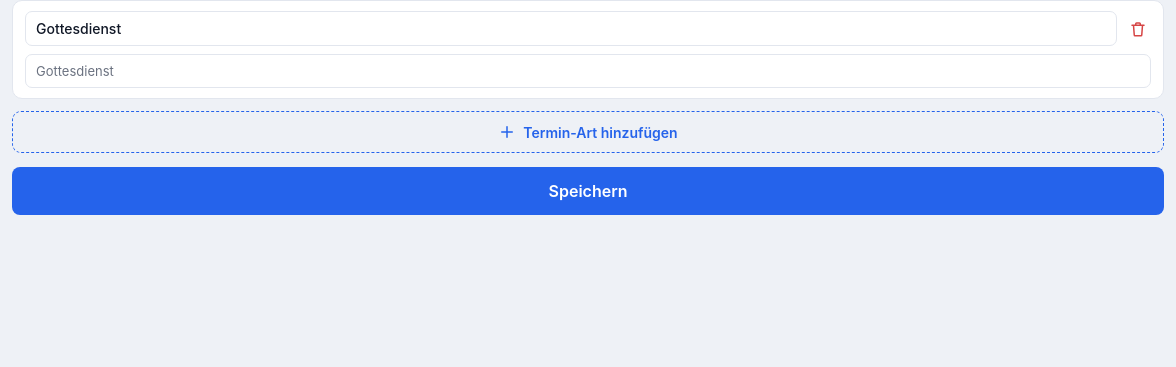
Test: TerminArtenManager › meldet eine halbe Zeile, statt sie still zu verwerfen
Click the button "Termin-Art hinzufügen" at coordinates (588, 132), box [12, 111, 1164, 153]
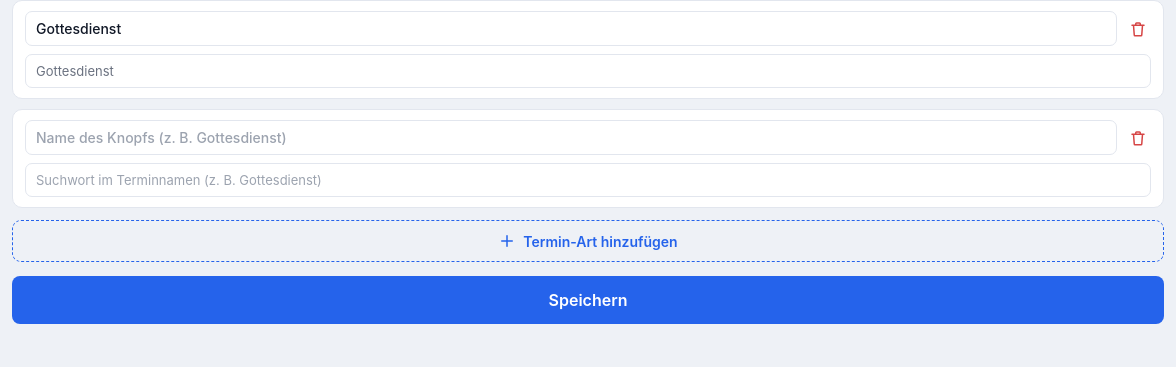
Type "Probe" into the field labelled "Name" at coordinates (571, 138), box [25, 120, 1117, 155]
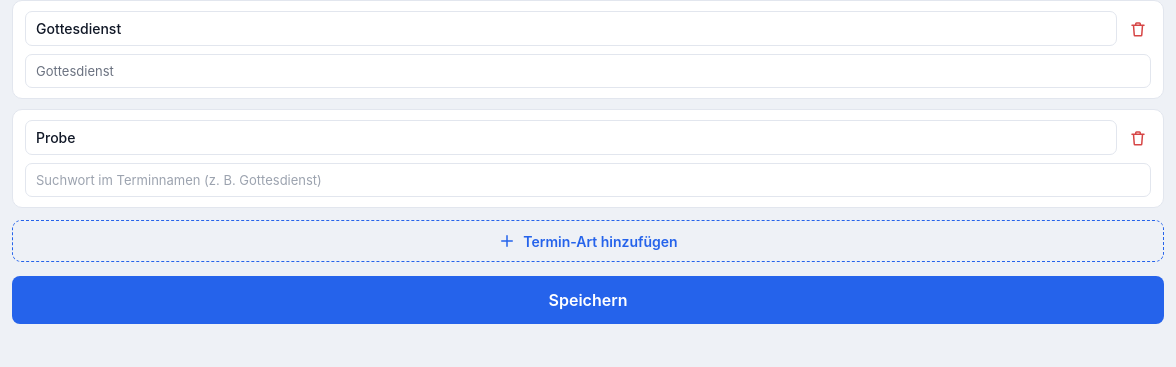
Click the button "Speichern" at coordinates (588, 300), box [12, 276, 1164, 324]
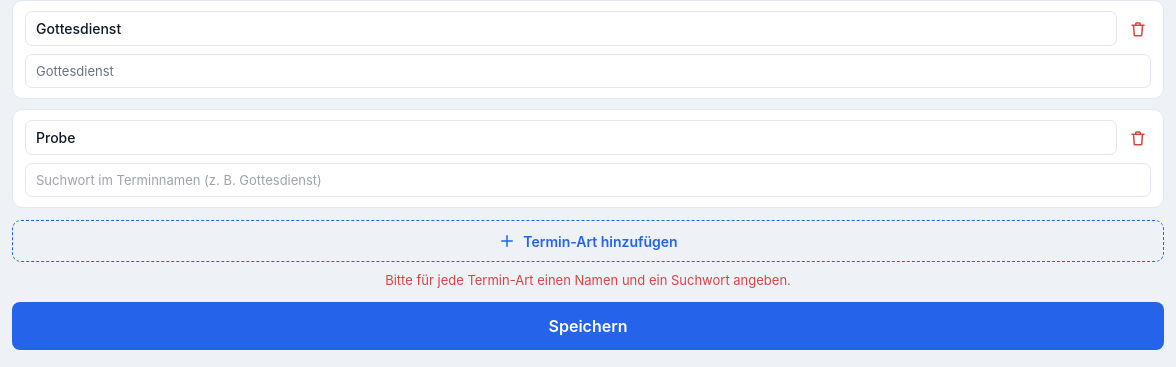
Result: the text "Namen und ein Suchwort" is shown at [385, 272, 791, 288]
